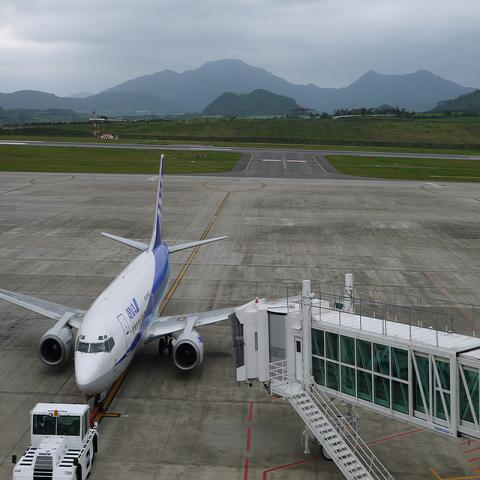truck: (12, 401, 99, 477)
